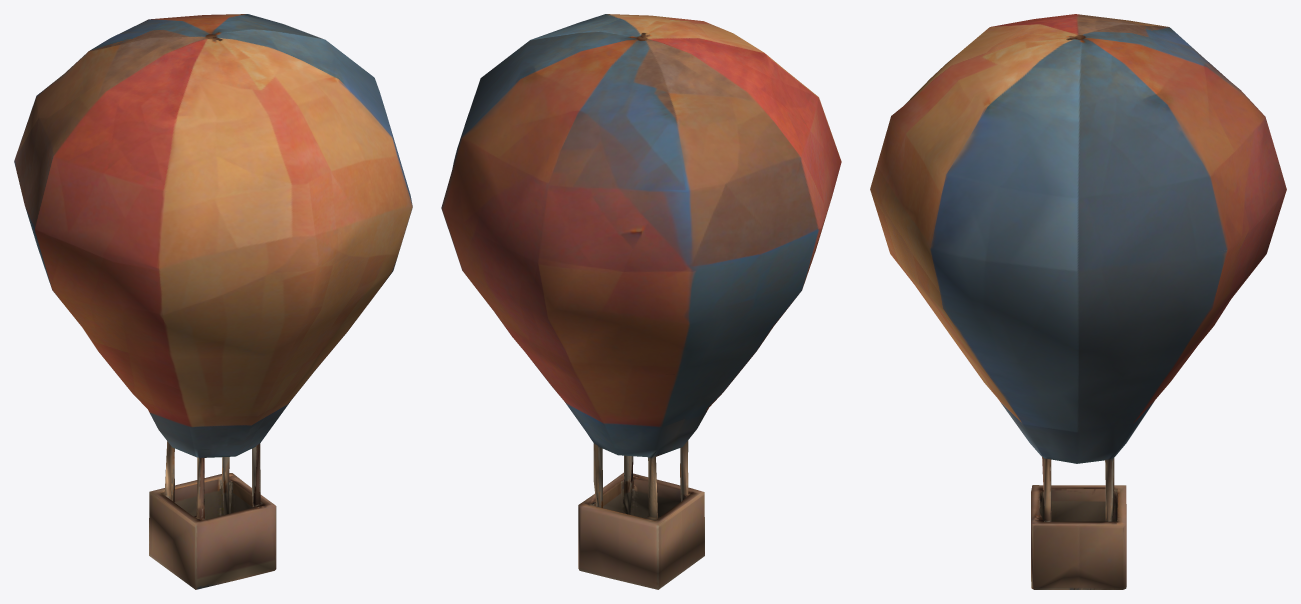
The model's file is Whimsical_Voyage_0811170758_texture.fbx.
3 renders of one model, left to right at view 1: azimuth 30°, elevation 25°; view 2: azimuth 150°, elevation 25°; view 3: azimuth 270°, elevation 25°, orthographic.
Visible parts, largest first — view 1: Mesh1.0; view 2: Mesh1.0; view 3: Mesh1.0.
Boxes of the visible parts, bbox=[...] form: Mesh1.0: bbox=[14, 14, 412, 589]; Mesh1.0: bbox=[441, 14, 841, 589]; Mesh1.0: bbox=[870, 14, 1286, 589].
Size of the model in its own units: 143 by 200 by 142.
1 material, 1 textured.
